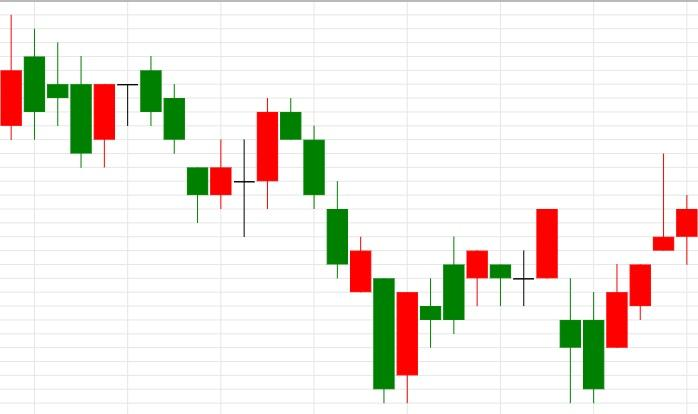three_black_crows_fall: (188, 98, 348, 279)
